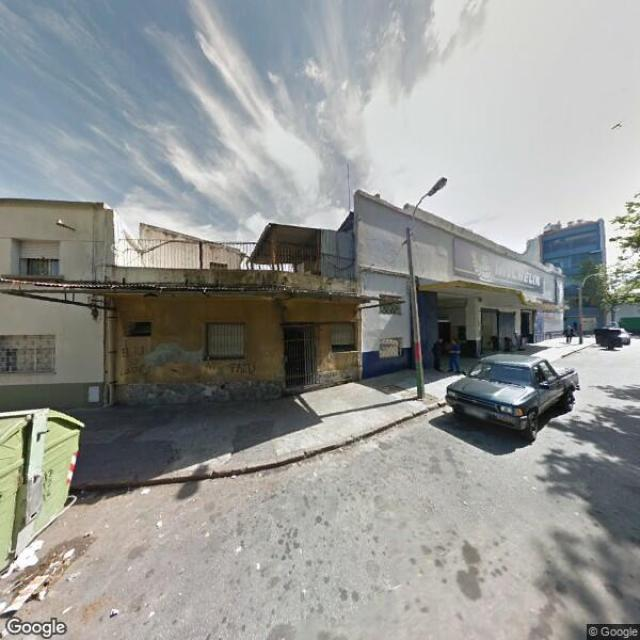garbage container: (2, 392, 100, 580)
